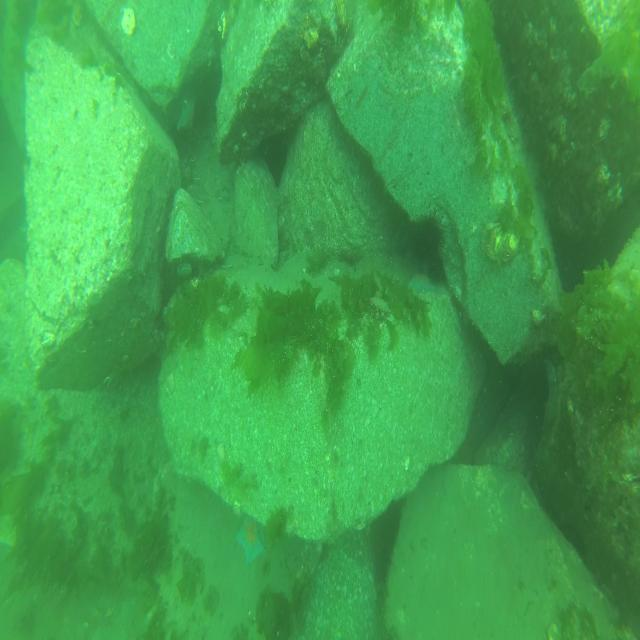echinus: (405, 214, 447, 275)
starfish: (234, 516, 268, 566), (176, 95, 196, 134)
